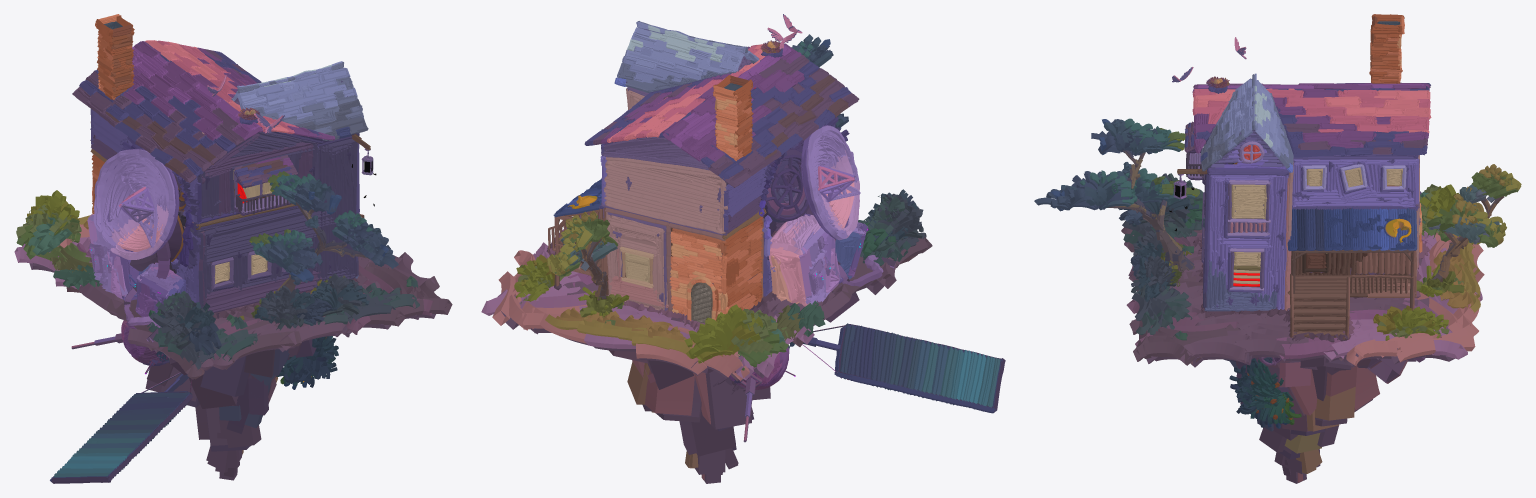
File: house-transformed.glb
3 renders of one model, left to right at view 1: azimuth 30°, elevation 25°; view 2: azimuth 150°, elevation 25°; view 3: azimuth 270°, elevation 25°, orthographic. The views are drawn at different scales.
Parts seen in each view (by area): view 1: Object_4, Object_171; view 2: Object_4, Object_171; view 3: Object_4, Object_171.
Boxes of the visible parts, x1,y1,x2,y2 form: Object_4: (14, 14, 452, 483); Object_171: (91, 161, 374, 382); Object_4: (481, 14, 1005, 483); Object_171: (624, 87, 860, 282); Object_4: (1034, 14, 1521, 483); Object_171: (1174, 167, 1402, 286).
Bounding box in the file's own units: 2.6 × 2.79 × 2.87.
5 materials, 5 textured.
